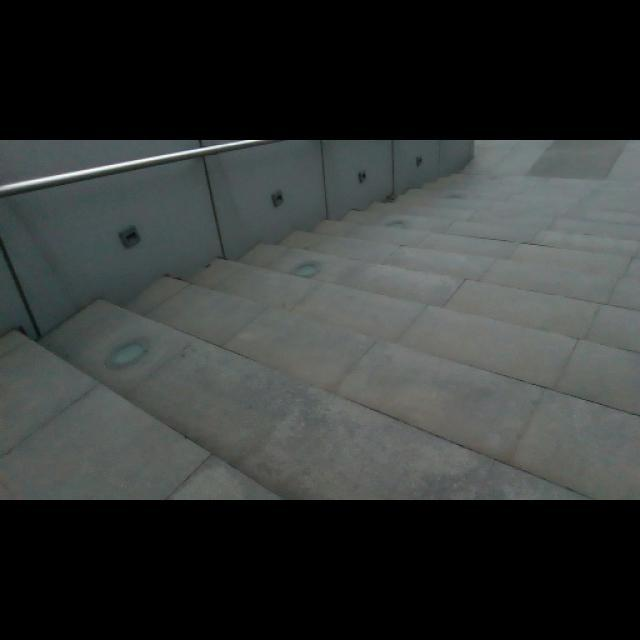stair: (52, 183, 640, 452)
